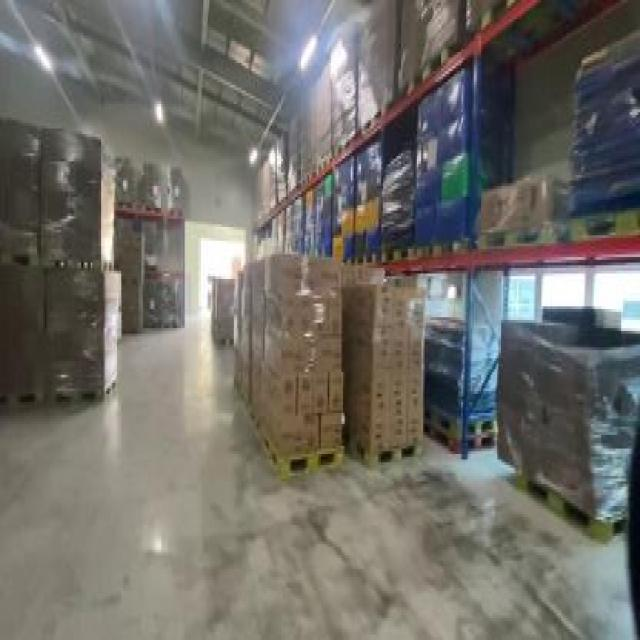box: (497, 295, 638, 558), (2, 120, 118, 408), (230, 257, 348, 484), (337, 257, 426, 468), (571, 36, 638, 246), (116, 147, 190, 326), (414, 306, 503, 452), (412, 79, 471, 257), (329, 3, 394, 123), (477, 175, 565, 254), (283, 164, 355, 260), (286, 60, 336, 172), (348, 148, 388, 254), (380, 151, 417, 257), (249, 131, 289, 211), (209, 274, 237, 350)
